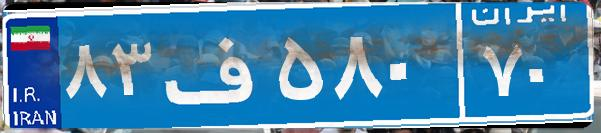0: (385, 28, 445, 110), (525, 38, 570, 115)
3: (110, 28, 158, 105)
5: (273, 28, 330, 110)
7: (475, 38, 525, 113)
8: (330, 28, 385, 110), (57, 26, 110, 107)
ف: (158, 15, 273, 115)
